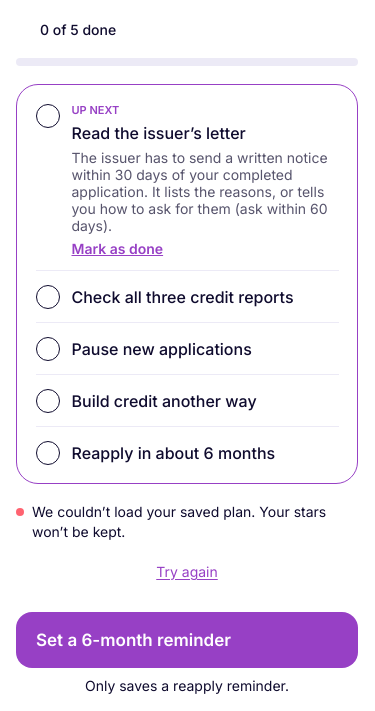
Test case: DeniedPlanView › offers to try again when the saved plan cannot load
(page scrolled)
Expected: the text "We couldn’t load your saved plan. Your stars won’t be kept." is shown, [32,502,358,542]
Click the button "Try again": (187,572) [16,550,358,594]
(page scrolled)
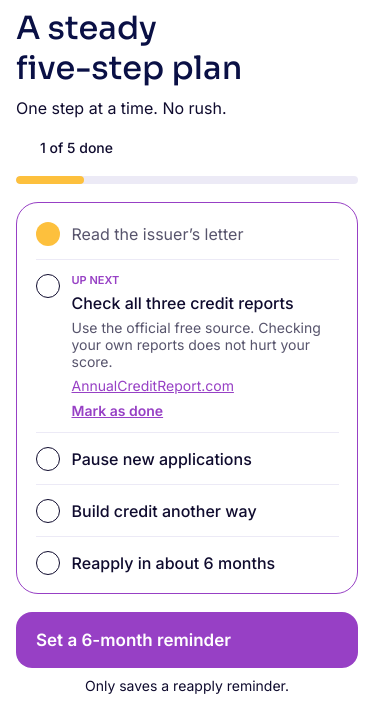
Now the text "1 of 5 done" is shown, box [40,139,113,156]
